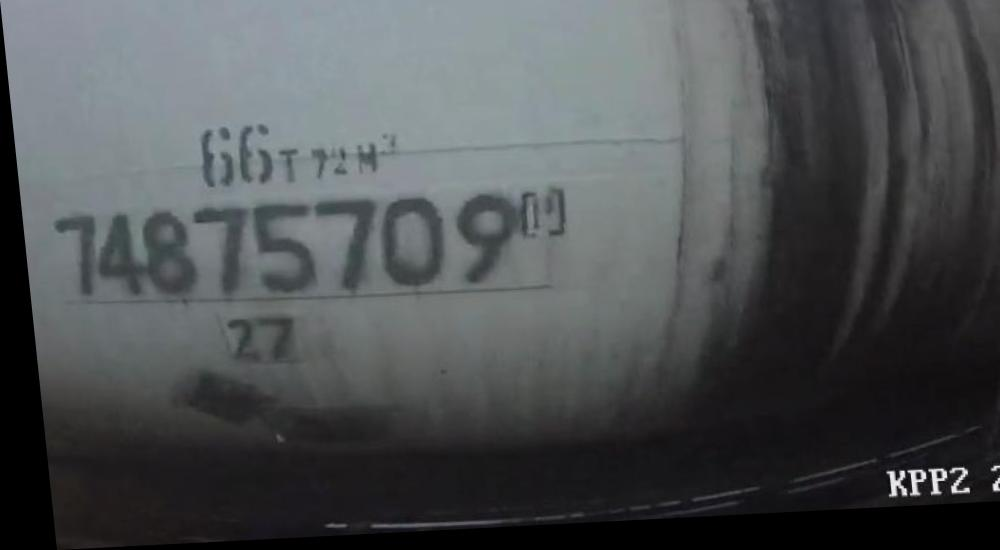Wagon-number: (41, 188, 518, 314)
